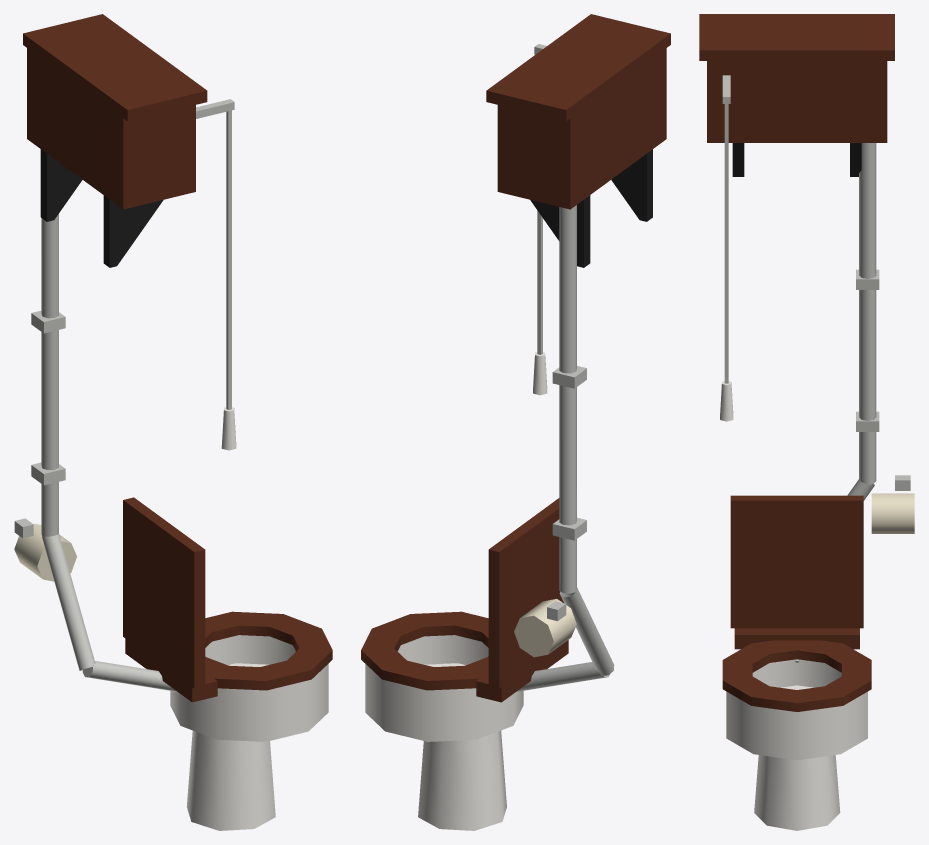
Rendered from parametric-wc-1st.glb.
The picture shows the model from 3 angles, left to right: view 1: azimuth 30°, elevation 25°; view 2: azimuth 150°, elevation 25°; view 3: azimuth 270°, elevation 25°; orthographic projection. The views are drawn at different scales.
Parts seen in each view (by area): view 1: parametric-wc-1st; view 2: parametric-wc-1st; view 3: parametric-wc-1st.
Boxes of the visible parts, x1,y1,x2,y2 form: parametric-wc-1st: (14,14,332,830); parametric-wc-1st: (361,14,670,830); parametric-wc-1st: (699,14,914,830).
Bounding box in the file's own units: 0.68 × 2.05 × 0.55.
